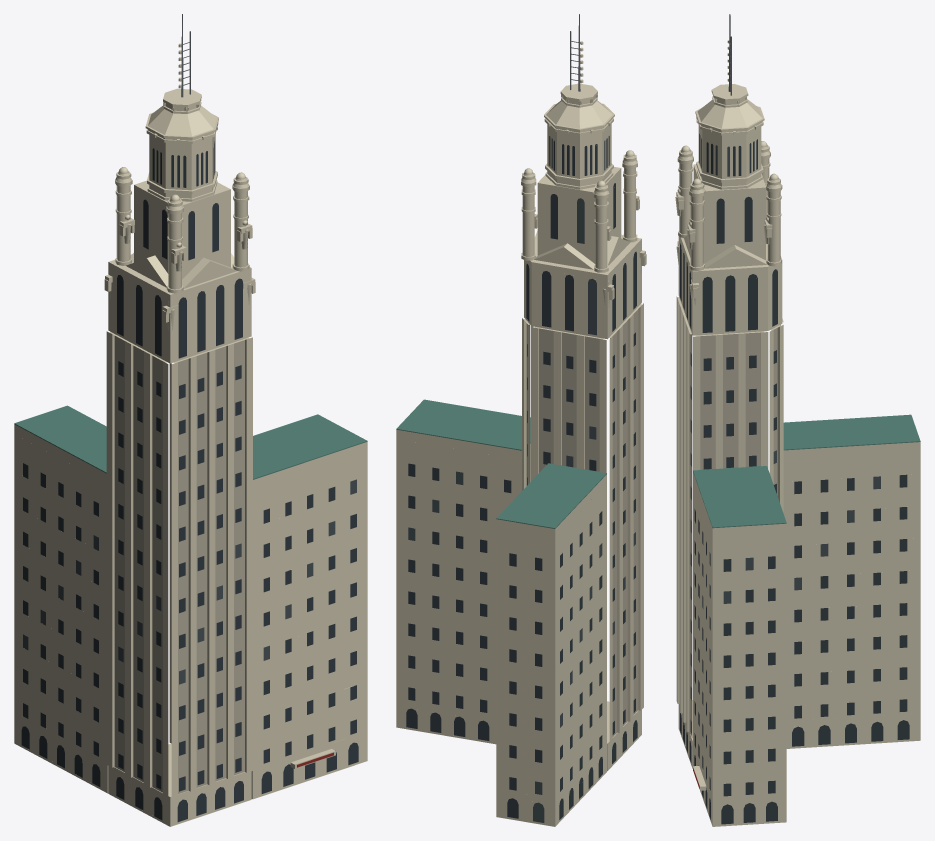
Rendered from leveque-tower-far.glb.
3 views of the same model, side by side, from view 1: azimuth 30°, elevation 25°; view 2: azimuth 150°, elevation 25°; view 3: azimuth 270°, elevation 25° (orthographic). The views are drawn at different scales.
Parts seen in each view (by area): view 1: leveque-tower-0-stone, leveque-tower-0-recess, leveque-tower-0-glass, leveque-tower-0-lamp, leveque-tower-0-copper, leveque-tower-0-glow; view 2: leveque-tower-0-stone, leveque-tower-0-glass, leveque-tower-0-lamp, leveque-tower-0-recess, leveque-tower-0-copper, leveque-tower-0-glow; view 3: leveque-tower-0-stone, leveque-tower-0-glass, leveque-tower-0-lamp, leveque-tower-0-copper, leveque-tower-0-recess, leveque-tower-0-glow.
Part boxes in pixels (x1,y1,x2,y2): leveque-tower-0-stone: (14, 43, 367, 826); leveque-tower-0-recess: (114, 336, 244, 793); leveque-tower-0-glass: (21, 143, 358, 821); leveque-tower-0-lamp: (115, 88, 249, 293); leveque-tower-0-copper: (14, 405, 367, 479); leveque-tower-0-glow: (23, 141, 356, 684); leveque-tower-0-stone: (396, 41, 646, 826); leveque-tower-0-glass: (406, 136, 637, 819); leveque-tower-0-lamp: (521, 83, 637, 272); leveque-tower-0-recess: (526, 309, 638, 736); leveque-tower-0-copper: (396, 399, 606, 528); leveque-tower-0-glow: (408, 198, 635, 822); leveque-tower-0-stone: (675, 40, 920, 826); leveque-tower-0-glass: (680, 134, 909, 824); leveque-tower-0-lamp: (677, 84, 782, 270); leveque-tower-0-copper: (693, 414, 920, 528); leveque-tower-0-recess: (690, 328, 777, 737); leveque-tower-0-glow: (690, 145, 880, 651).
Bounding box in the file's own units: 62.47 × 189 × 57.43.
